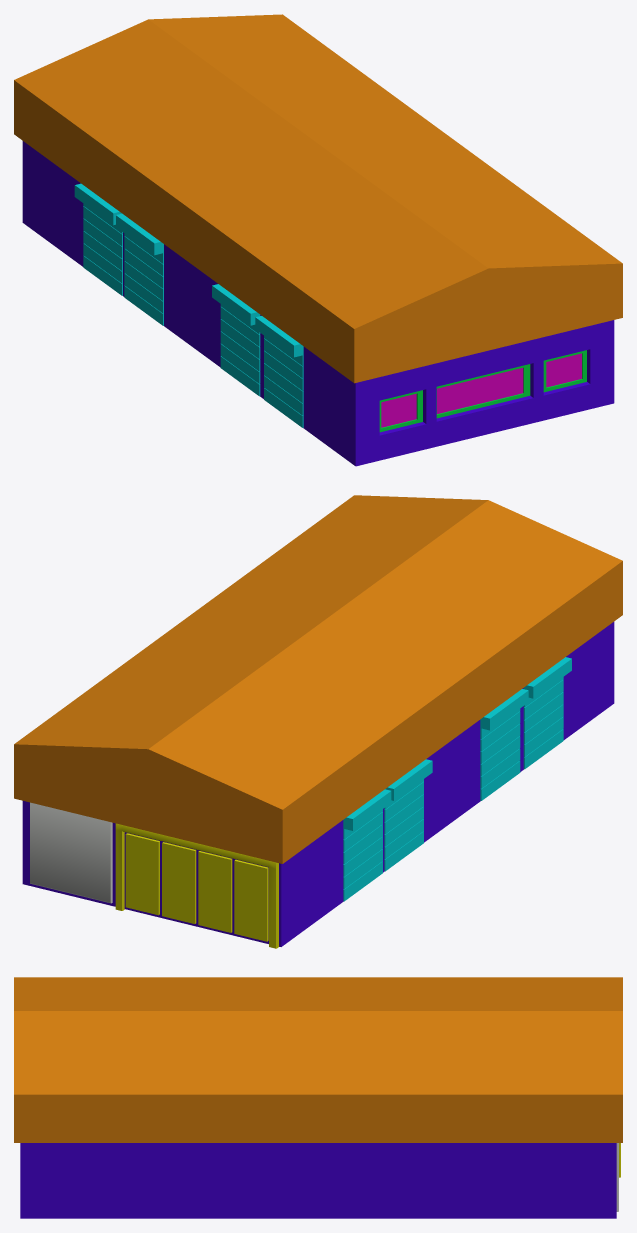
File: Bat_Joliette_4.1.fbx
3 views of the same model, one above another, from view 1: azimuth 30°, elevation 25°; view 2: azimuth 150°, elevation 25°; view 3: azimuth 270°, elevation 25° (orthographic). The views are drawn at different scales.
Parts seen in each view (by area): view 1: Bat_Joliette_4..1; view 2: Bat_Joliette_4..1; view 3: Bat_Joliette_4..1.
Part boxes in pixels (x1,y1,x2,y2): Bat_Joliette_4..1: (14,14,622,466); Bat_Joliette_4..1: (14,495,622,948); Bat_Joliette_4..1: (14,977,622,1218).
Bounding box in the file's own units: 1070 × 634 × 2307.
